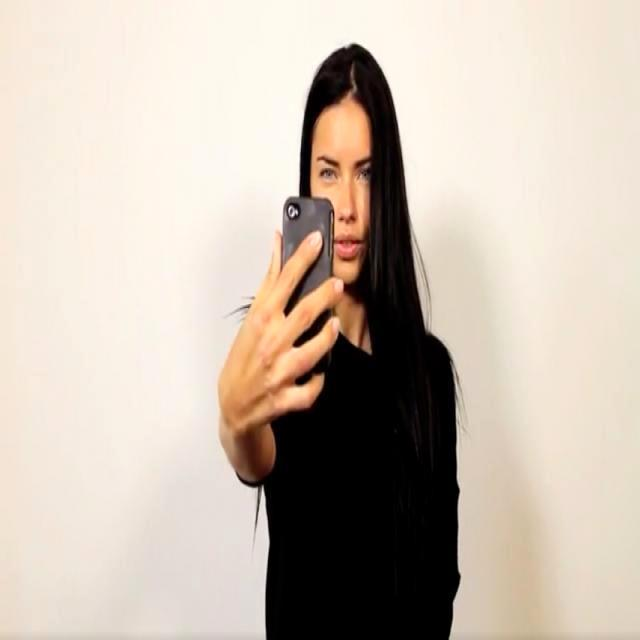lens_back: (288, 205, 297, 219)
phone: (283, 195, 335, 356)
